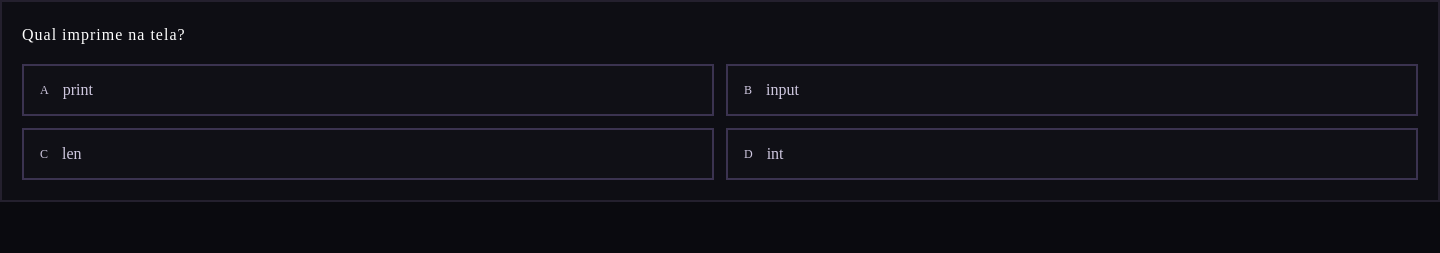
QuizQuestao › acerto marca a opção de verde e trava as outras
Step 1. Click the button "A print" → coordinates (78, 89), box [22,64,714,116]
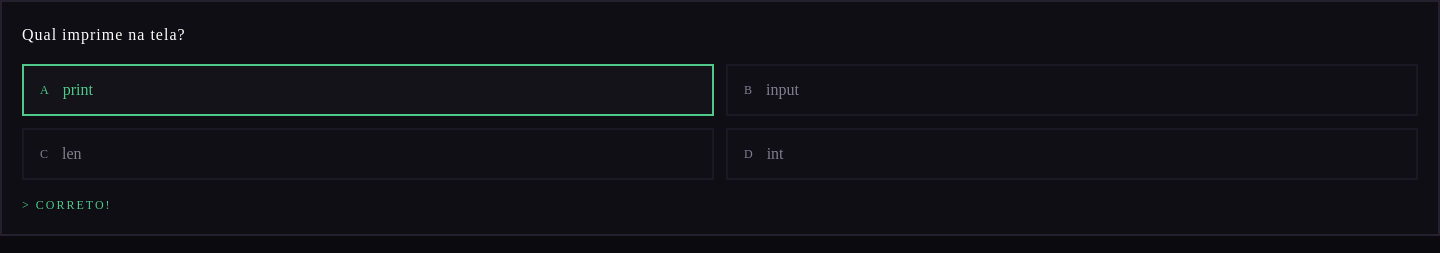
Check: the message shows "CORRETO", box [22,198,112,212]
Check: the button "C len" is disabled, box [22,128,714,180]
